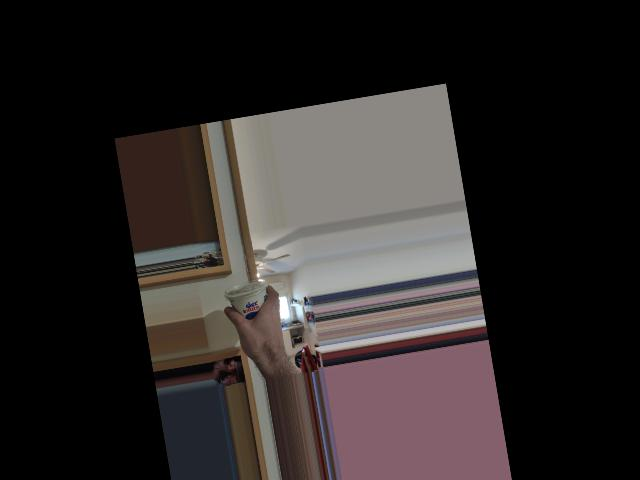cotage: (224, 276, 277, 332)
